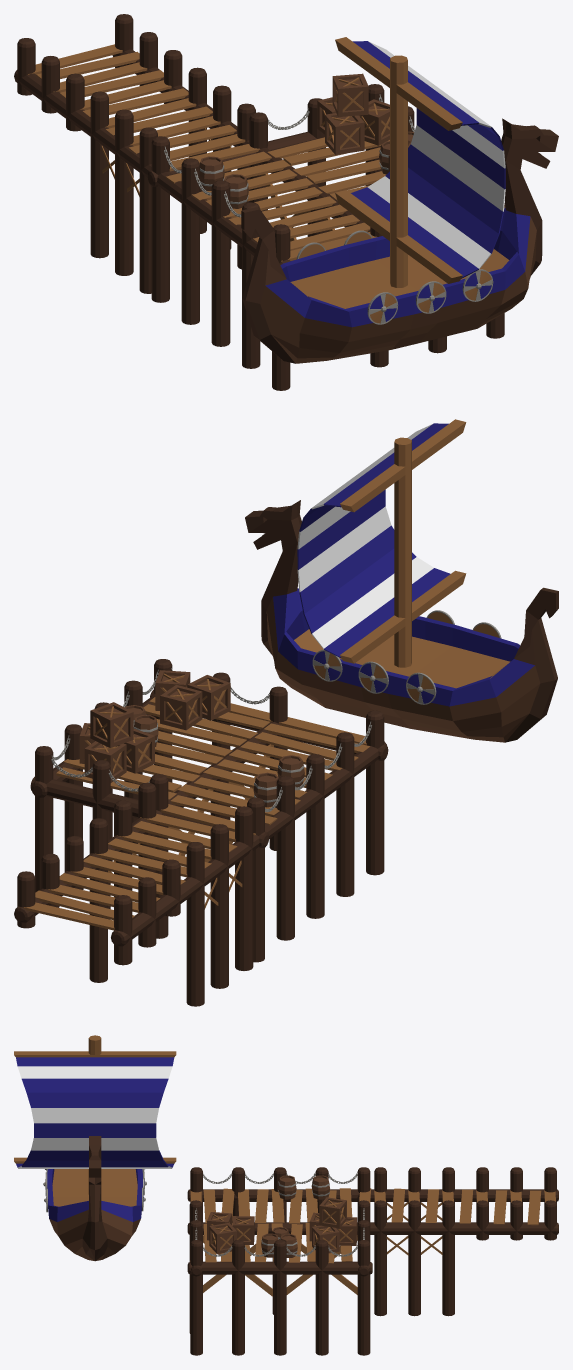
File: Port.fbx
3 views of the same model, one above another, from view 1: azimuth 30°, elevation 25°; view 2: azimuth 150°, elevation 25°; view 3: azimuth 270°, elevation 25° (orthographic). The views are drawn at different scales.
Parts seen in each view (by area): view 1: Dock, Ship; view 2: Dock, Ship; view 3: Dock, Ship.
Boxes of the visible parts, box(x1,y1,x2,y2) form: Dock: box(14, 14, 505, 390); Ship: box(241, 37, 558, 363); Dock: box(14, 659, 388, 1006); Ship: box(245, 419, 558, 742); Dock: box(187, 1167, 558, 1355); Ship: box(14, 1035, 176, 1261).
Size of the model in its own units: 289 by 304 by 583.
